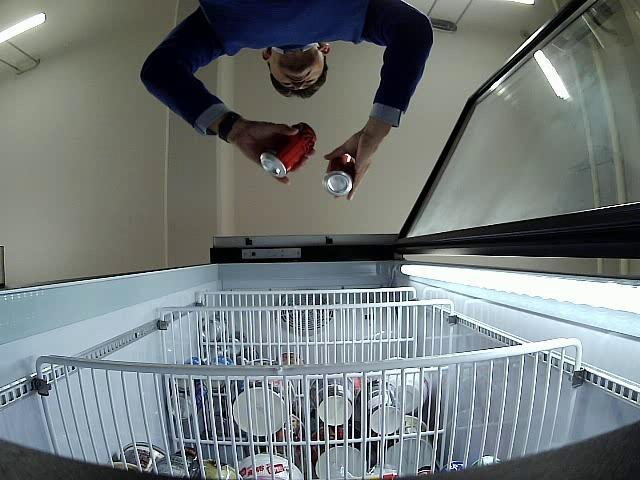11_cocaColaZero: (260, 122, 315, 178), (322, 154, 354, 197)
